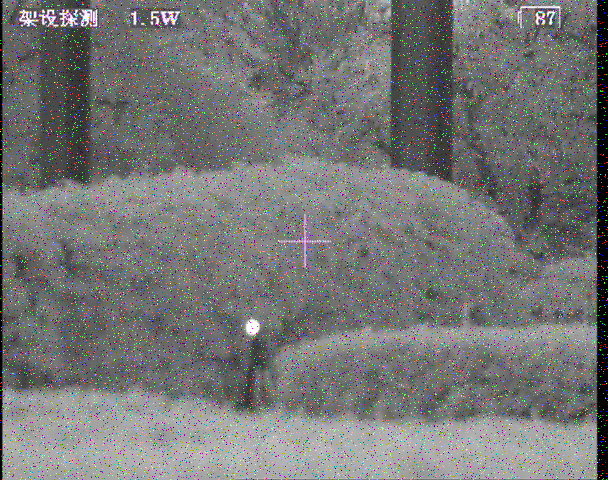my: (245, 318, 260, 336)
